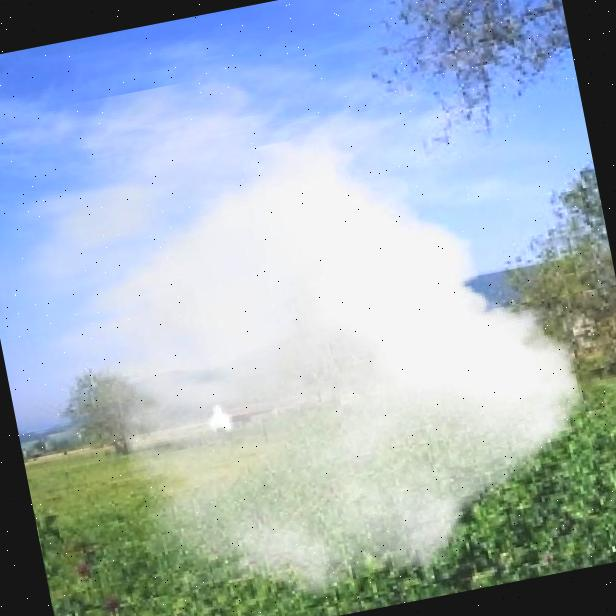smoke: (0, 19, 611, 616)
